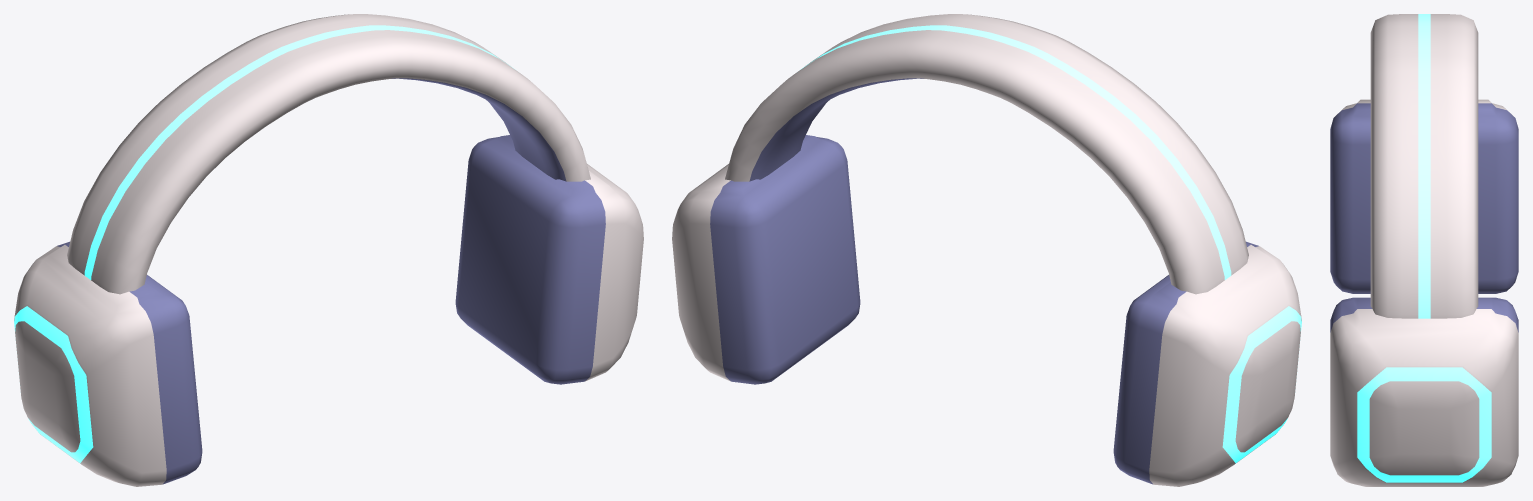
File: headphones.fbx
3 views of the same model, side by side, from view 1: azimuth 30°, elevation 25°; view 2: azimuth 150°, elevation 25°; view 3: azimuth 270°, elevation 25° (orthographic). The views are drawn at different scales.
Visible parts, largest first — view 1: Cube; view 2: Cube; view 3: Cube.
Boxes of the visible parts, x1=… form: Cube: x1=14, y1=14, x2=643, y2=486; Cube: x1=672, y1=14, x2=1301, y2=486; Cube: x1=1330, y1=14, x2=1518, y2=486.
Size of the model in its own units: 287 by 175 by 87.21.
